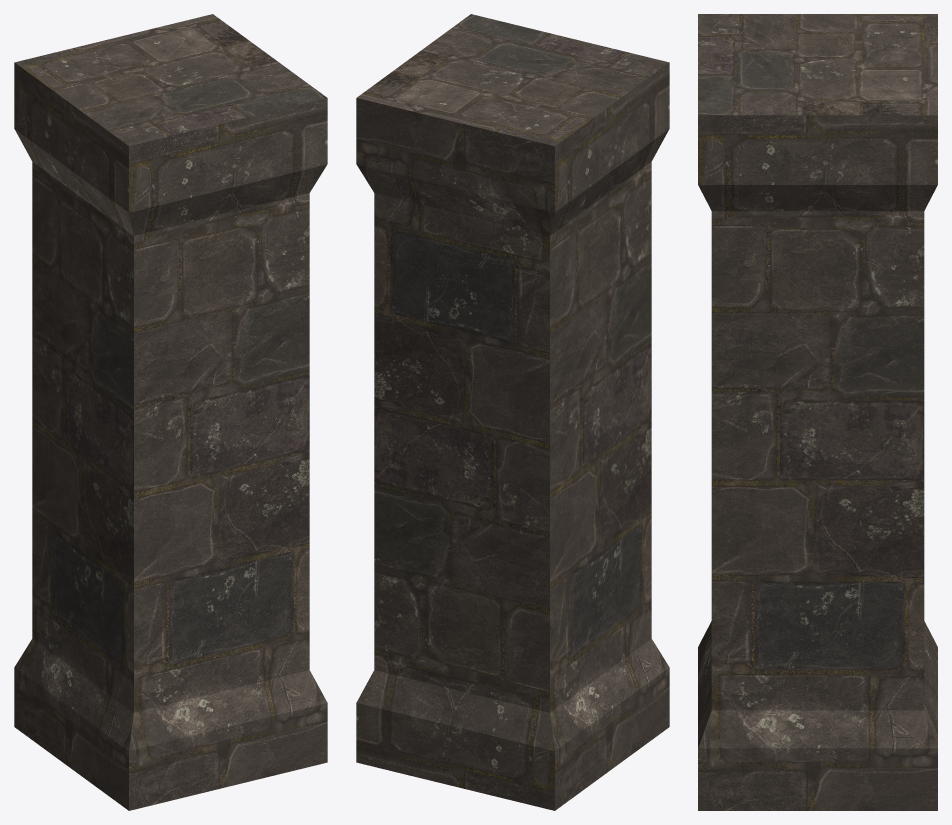
The model's file is SM_Pillar.fbx.
3 renders of one model, left to right at view 1: azimuth 30°, elevation 25°; view 2: azimuth 150°, elevation 25°; view 3: azimuth 270°, elevation 25°, orthographic. The views are drawn at different scales.
Parts seen in each view (by area): view 1: Pillar; view 2: Pillar; view 3: Pillar.
Boxes of the visible parts, box(x1,y1,x2,y2) form: Pillar: box(14, 14, 327, 810); Pillar: box(356, 14, 669, 810); Pillar: box(698, 14, 937, 810).
Bounding box in the file's own units: 100 × 320 × 100.
Materials: 1 (1 with a texture image).
